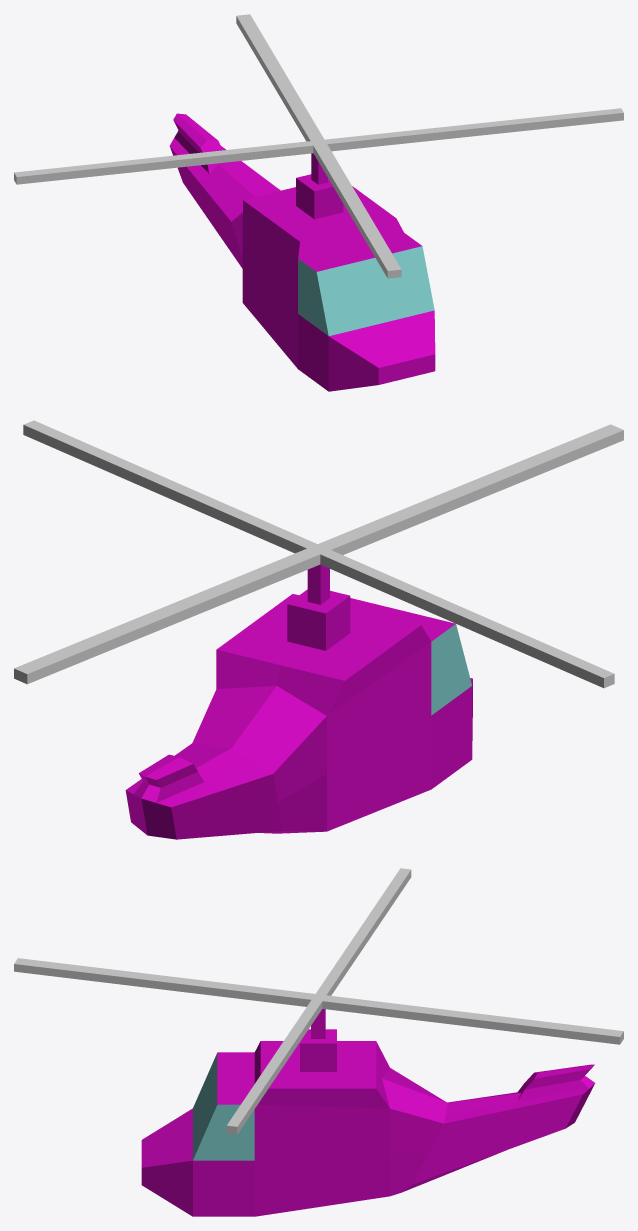
The model's file is lameheli.fbx.
3 views of the same model, one above another, from view 1: azimuth 30°, elevation 25°; view 2: azimuth 150°, elevation 25°; view 3: azimuth 270°, elevation 25° (orthographic). The views are drawn at different scales.
Parts seen in each view (by area): view 1: Helicopter Body, Blades; view 2: Helicopter Body, Blades; view 3: Helicopter Body, Blades.
Boxes of the visible parts, <box> form: Helicopter Body: <box>169,113,435,391</box>; Blades: <box>14,14,623,278</box>; Helicopter Body: <box>125,564,472,839</box>; Blades: <box>14,420,623,688</box>; Helicopter Body: <box>141,1009,595,1216</box>; Blades: <box>14,868,623,1134</box>.
Bounding box in the file's own units: 989 × 344 × 986.
